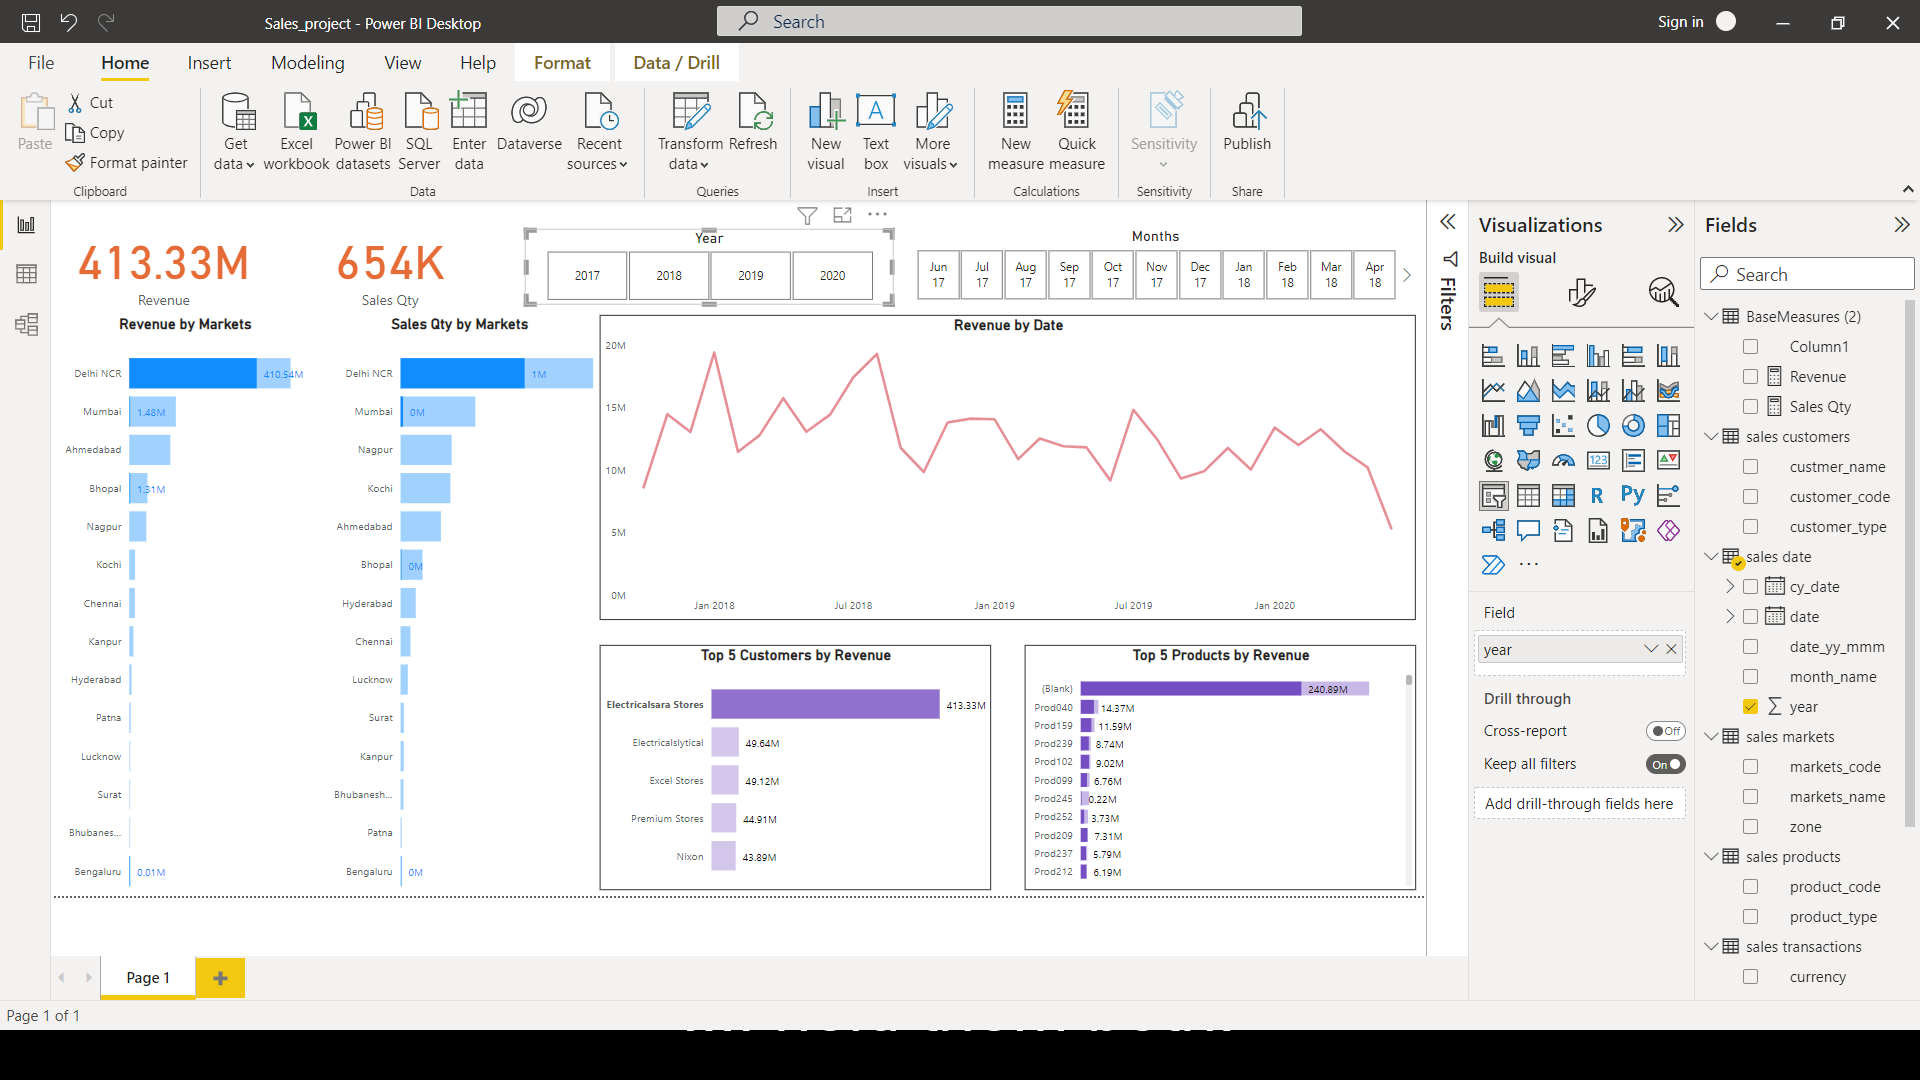

The page's visual inventory and layout, read from the dashboard file:
{"tool":"powerbi","page":{"name":"Page 1","canvas":[1580,800],"ordinal":0},"visuals":[{"type":"card","fields":{"Values":["BaseMeasures (2).Revenue"]},"box":[0,0,259.6,152.4],"z":0},{"type":"card","fields":{"Values":["BaseMeasures (2).Sales Qty"]},"box":[259.6,0,259.6,152.4],"z":1000},{"type":"barChart","title":"Revenue by Markets","fields":{"Y":["BaseMeasures (2).Revenue"],"Category":["sales markets.markets_name"]},"box":[0,132.1,308.8,679.4],"z":2000},{"type":"barChart","title":"Sales Qty by Markets","fields":{"Y":["BaseMeasures (2).Sales Qty"],"Category":["sales markets.markets_name"]},"box":[308.8,132.1,321.7,679.4],"z":3000},{"type":"slicer","title":"Year","fields":{"Values":["sales date.year"]},"box":[545,32.5,423.7,88.8],"z":4000},{"type":"slicer","title":"Months","fields":{"Values":["sales date.cy_date"]},"box":[969.1,31.2,599.6,89],"z":5000},{"type":"barChart","title":"Top 5 Customers by Revenue","fields":{"Y":["BaseMeasures (2).Revenue"],"Category":["sales customers.custmer_name"]},"box":[630.5,510.9,449.3,281.9],"z":6000},{"type":"barChart","title":"Top 5 Products by Revenue","fields":{"Y":["BaseMeasures (2).Revenue"],"Category":["sales products.product_code"]},"box":[1118.9,511.3,449.6,281.5],"z":6001},{"type":"lineChart","title":"Revenue by Date","fields":{"Category":["sales date.cy_date"],"Y":["BaseMeasures (2).Revenue"]},"box":[630.6,132.1,937.9,350.5],"z":6002}]}

Visuals, with their boxes on the page's 1580x800 design canvas (x1, y1, x2, y2). These are canvas units, not pixel positions in the 1920x1080 screenshot, which may show the page scaled, cropped or inside an application window:
card - BaseMeasures (2).Revenue: left=0, top=0, right=260, bottom=152
card - BaseMeasures (2).Sales Qty: left=260, top=0, right=519, bottom=152
"Revenue by Markets" barChart: left=0, top=132, right=309, bottom=812
"Sales Qty by Markets" barChart: left=309, top=132, right=630, bottom=812
"Year" slicer: left=545, top=32, right=969, bottom=121
"Months" slicer: left=969, top=31, right=1569, bottom=120
"Top 5 Customers by Revenue" barChart: left=630, top=511, right=1080, bottom=793
"Top 5 Products by Revenue" barChart: left=1119, top=511, right=1568, bottom=793
"Revenue by Date" lineChart: left=631, top=132, right=1568, bottom=483
